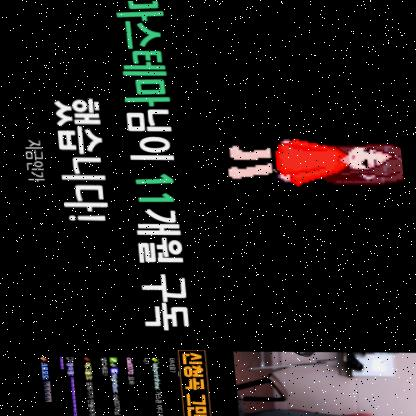donation: (11, 0, 411, 331)
